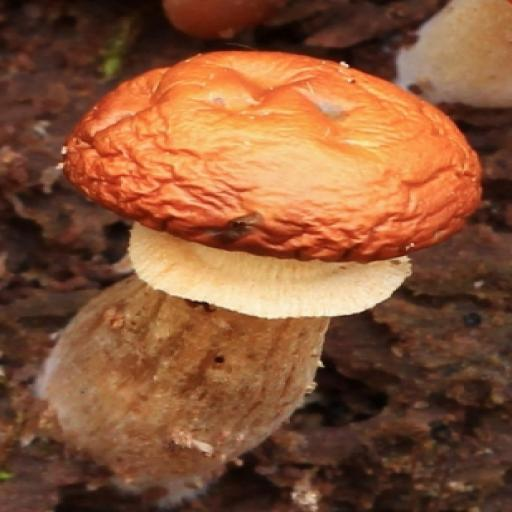mushroom: (73, 40, 484, 440)
